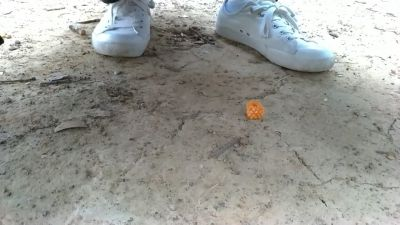eggs: (245, 97, 267, 122)
